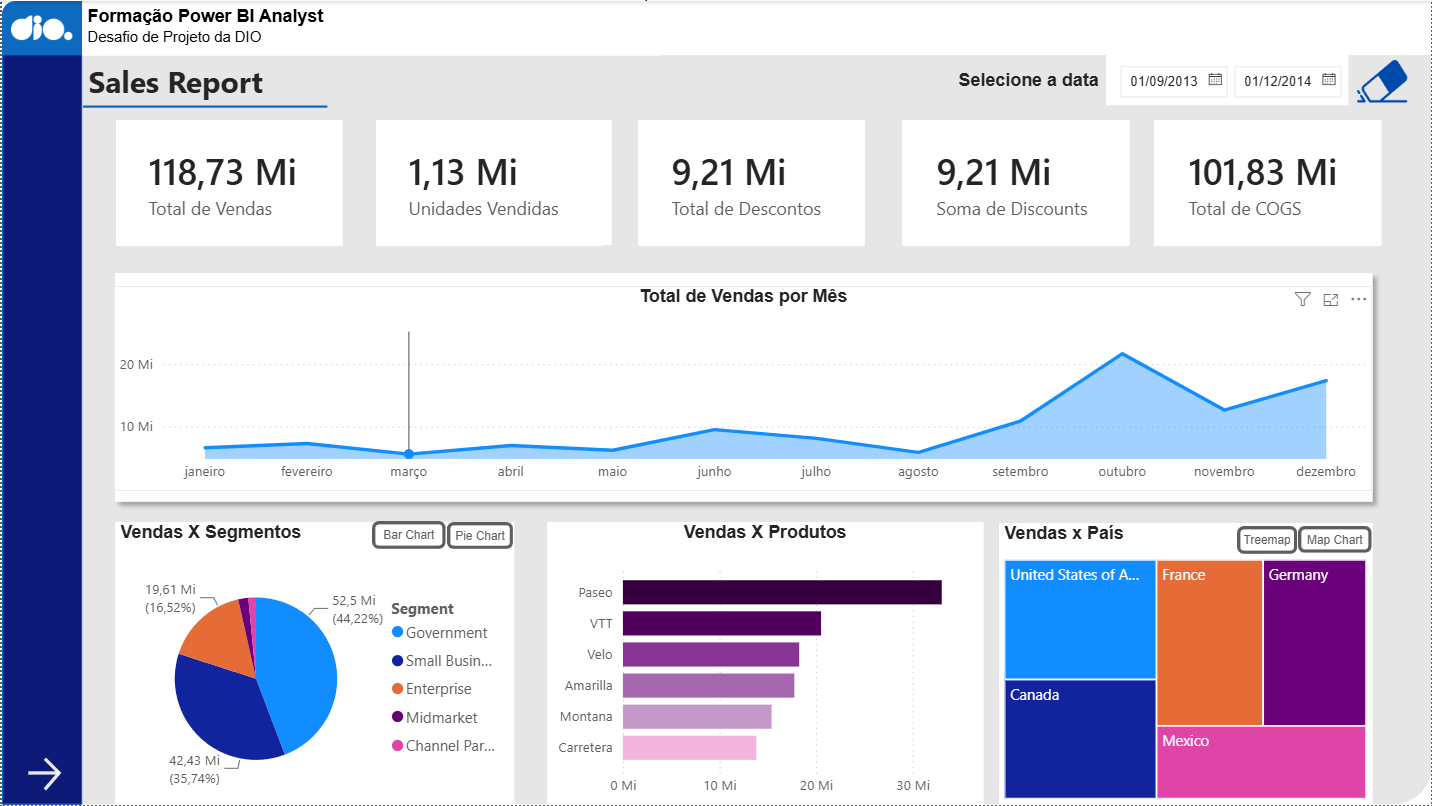

This screenshot's page, from the dashboard's own definition file:
{"tool":"powerbi","page":{"name":"Sales Report","canvas":[1280,720],"ordinal":0},"visuals":[{"type":"shape","box":[11.3,0,1269.2,719.5],"z":0},{"type":"textbox","box":[72.2,48.5,218.8,46.2],"z":0,"group":"g5"},{"type":"slicer","fields":{"Values":["financials.Date"]},"box":[989.1,48.6,216.9,44.7],"z":0,"group":"g2"},{"type":"shape","box":[1031.7,106.9,203.3,112.9],"z":0,"group":"g1"},{"type":"shape","box":[0,0,72,719.8],"z":1000},{"type":"textbox","box":[852,57.4,137.1,36],"z":1000,"group":"g2"},{"type":"shape","box":[72.2,83.5,218.8,22.6],"z":1000,"group":"g5"},{"type":"shape","box":[806.1,106.9,203.3,112.9],"z":1000,"group":"g1"},{"type":"pieChart","title":"Vendas X Segmentos ","fields":{"Y":["Sum(financials. Sales)"],"Category":["financials.Segment"]},"box":[100.3,466.9,357.5,252.6],"z":1000,"group":"g4"},{"type":"treemap","title":"Vendas x País","fields":{"Group":["financials.Country"],"Values":["Sum(financials. Sales)"]},"box":[893.2,468,333.7,251.8],"z":1000,"group":"g3"},{"type":"actionButton","title":"Treemap","box":[1106,470,54,25],"z":1250,"group":"g3"},{"type":"actionButton","title":"Bar Chart","box":[331,466,66,25],"z":1500,"group":"g4"},{"type":"actionButton","title":"Map Chart","box":[1161,470,66,24],"z":1500,"group":"g3"},{"type":"shape","box":[0,0,72,48.6],"z":2000},{"type":"actionButton","box":[1206,48.6,62.2,46.7],"z":2000,"group":"g2"},{"type":"shape","box":[569.7,106.9,203.3,112.9],"z":2000,"group":"g1"},{"type":"actionButton","title":"Pie Chart","box":[398,467,59.2,24.2],"z":2000,"group":"g4"},{"type":"image","title":"Dio","box":[7.8,0,55.4,48.6],"z":3000},{"type":"image","title":"Clear","box":[1213.4,48.5,45.1,46.2],"z":3000,"group":"g2"},{"type":"shape","box":[334.4,106.9,203.3,112.9],"z":3000,"group":"g1"},{"type":"shape","box":[72,0,1208,48.6],"z":4000},{"type":"shape","box":[101.9,106.9,203.3,112.9],"z":4000,"group":"g1"},{"type":"textbox","box":[72,0,518.4,48.6],"z":5000},{"type":"cardVisual","fields":{"Data":["Sum(financials.COGS)"]},"box":[1033.2,106.9,201.8,111.9],"z":5000,"group":"g1"},{"type":"group","id":"g1","title":"Cartões ","box":[101.9,106.9,1133.1,112.9],"z":6000},{"type":"cardVisual","fields":{"Data":["Sum(financials.Discounts)"]},"box":[807.3,106.9,201.8,111.9],"z":6000,"group":"g1"},{"type":"cardVisual","fields":{"Data":["Sum(financials.Discounts)"]},"box":[570.5,106.9,201.8,111.9],"z":7000,"group":"g1"},{"type":"shape","box":[91.9,234.8,1144.1,222.8],"z":7000},{"type":"cardVisual","fields":{"Data":["Sum(financials.Units Sold)"]},"box":[334.7,106.9,210.8,111.9],"z":8000,"group":"g1"},{"type":"shape","box":[101.9,466.6,356.7,252.8],"z":8000},{"type":"cardVisual","fields":{"Data":["Sum(financials. Sales)"]},"box":[102,107,201.8,111.9],"z":9000,"group":"g1"},{"type":"shape","box":[487.6,466.6,390.7,252.8],"z":9000},{"type":"shape","box":[893.3,467.6,333.7,252.8],"z":10000},{"type":"areaChart","title":"Total de Vendas por Mês ","fields":{"Category":["financials.Date.Variation.Hierarquia de datas.Mês"],"Y":["Sum(financials. Sales)"]},"box":[99.9,254.8,1127.1,183.9],"z":11000},{"type":"clusteredBarChart","title":"Vendas X Produtos","fields":{"Y":["Sum(financials. Sales)"],"Category":["financials.Product"]},"box":[487.6,466.6,390.7,253.8],"z":12000},{"type":"group","id":"g2","title":"Filtro por Data","box":[852,48.5,416.3,46.8],"z":13000},{"type":"group","id":"g3","title":"Vendas x País","box":[893.2,467.6,333.9,252.2],"z":14000},{"type":"group","id":"g4","title":"Vendas x Segmentos","box":[99.9,466,358.7,253.5],"z":15000},{"type":"group","id":"g5","title":"Title Report","box":[72.2,48.5,218.8,57.5],"z":16000},{"type":"actionButton","box":[11.3,672.7,51.9,39.5],"z":17000}]}

Visuals, with their boxes in screenshot pixels (x1, y1, x2, y2), scaled from the page's 1280x720 canvas onto the 1432x806 screenshot:
shape: (13, 0, 1431, 805)
textbox: (81, 54, 326, 106)
slicer - financials.Date: (1107, 54, 1349, 104)
shape: (1154, 120, 1382, 246)
shape: (0, 0, 81, 805)
textbox: (953, 64, 1107, 105)
shape: (81, 93, 326, 119)
shape: (902, 120, 1129, 246)
"Vendas X Segmentos " pieChart: (112, 523, 512, 805)
"Vendas x País" treemap: (999, 524, 1373, 805)
"Treemap" actionButton: (1237, 526, 1298, 554)
"Bar Chart" actionButton: (370, 522, 444, 550)
"Map Chart" actionButton: (1299, 526, 1373, 553)
shape: (0, 0, 81, 54)
actionButton: (1349, 54, 1419, 107)
shape: (637, 120, 865, 246)
"Pie Chart" actionButton: (445, 523, 511, 550)
"Dio" image: (9, 0, 71, 54)
"Clear" image: (1357, 54, 1408, 106)
shape: (374, 120, 602, 246)
shape: (81, 0, 1431, 54)
shape: (114, 120, 341, 246)
textbox: (81, 0, 661, 54)
cardVisual - Sum(financials.COGS): (1156, 120, 1382, 245)
"Cartões " group: (114, 120, 1382, 246)
cardVisual - Sum(financials.Discounts): (903, 120, 1129, 245)
cardVisual - Sum(financials.Discounts): (638, 120, 864, 245)
shape: (103, 263, 1383, 512)
cardVisual - Sum(financials.Units Sold): (374, 120, 610, 245)
shape: (114, 522, 513, 805)
cardVisual - Sum(financials. Sales): (114, 120, 340, 245)
shape: (546, 522, 983, 805)
shape: (999, 523, 1373, 805)
"Total de Vendas por Mês " areaChart: (112, 285, 1373, 491)
"Vendas X Produtos" clusteredBarChart: (546, 522, 983, 805)
"Filtro por Data" group: (953, 54, 1419, 107)
"Vendas x País" group: (999, 523, 1373, 805)
"Vendas x Segmentos" group: (112, 522, 513, 805)
"Title Report" group: (81, 54, 326, 119)
actionButton: (13, 753, 71, 797)
